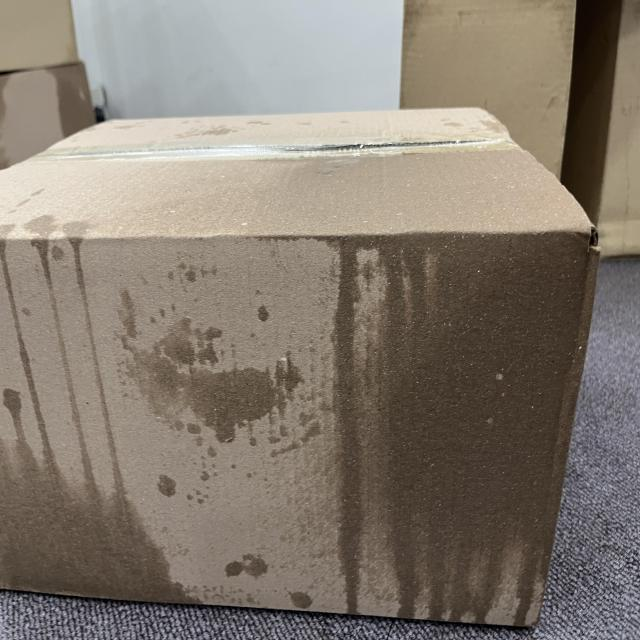wet: (15, 144, 562, 640)
